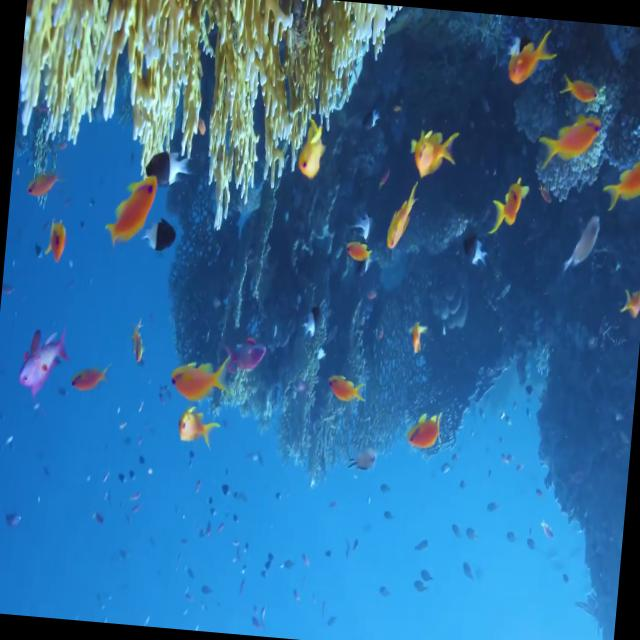fish: (105, 167, 157, 250), (538, 114, 600, 176), (18, 325, 68, 395), (168, 354, 232, 404), (487, 175, 528, 240), (509, 32, 553, 90), (408, 130, 458, 177), (177, 400, 224, 448), (144, 144, 192, 190), (600, 157, 640, 211), (384, 185, 416, 252), (402, 410, 446, 452), (329, 374, 369, 405)
